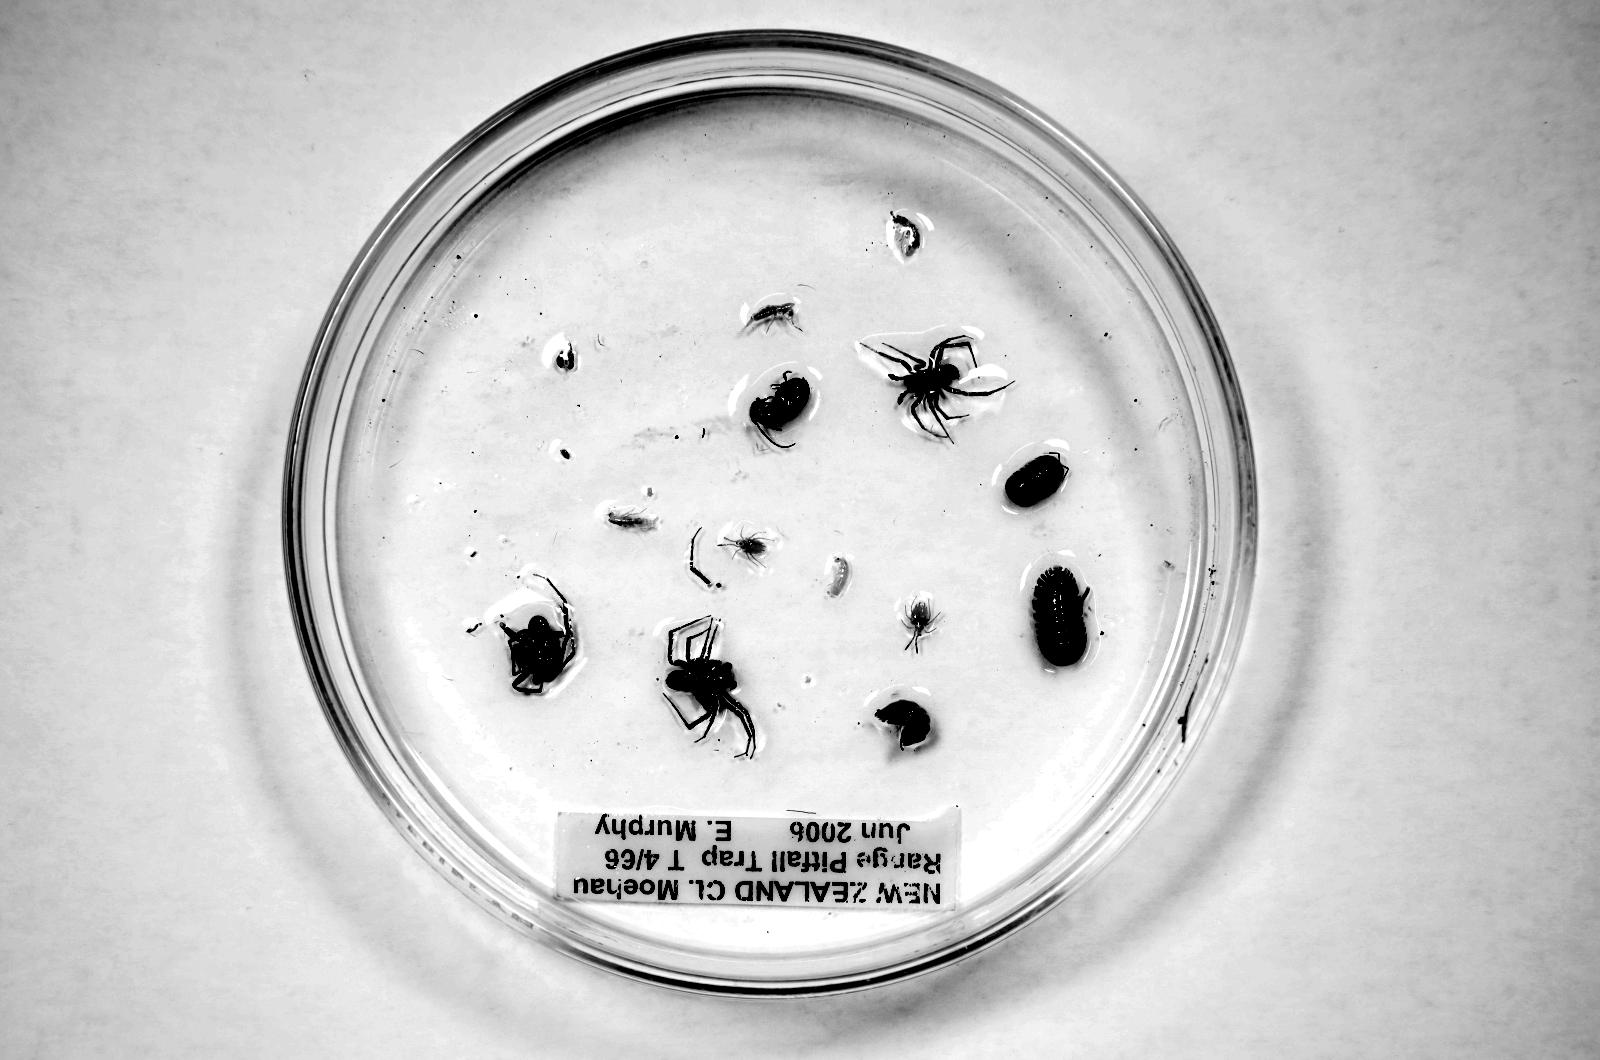acari: (902, 592, 939, 654), (718, 533, 766, 566)
araneae: (859, 334, 1011, 438), (666, 615, 756, 758), (500, 604, 576, 692)
coleoptera: (750, 372, 809, 430)
collembola: (741, 296, 798, 330), (607, 510, 659, 530), (827, 556, 850, 597)
isopoda: (1032, 566, 1090, 665), (1005, 452, 1067, 506), (874, 700, 930, 749)
